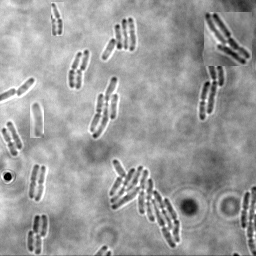Dividing: (67, 52, 81, 89), (1, 128, 18, 157), (34, 166, 47, 202), (51, 2, 64, 36), (28, 164, 39, 200), (239, 192, 249, 229)
Microcolony: (109, 158, 180, 249), (204, 12, 252, 66), (88, 76, 119, 139), (199, 45, 224, 121), (101, 18, 136, 61), (27, 214, 48, 255), (30, 99, 44, 138)
Rod: (5, 121, 23, 150), (16, 78, 34, 99), (79, 50, 89, 72), (73, 69, 82, 90)
